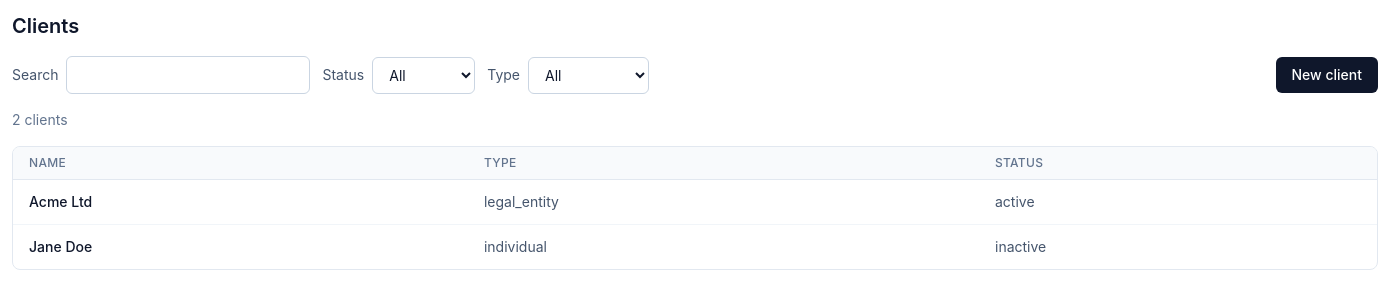
Test: ClientsIndexPage › refreshes the list with the backend search parameter
Expected: the link "Acme Ltd" is shown, [29,193,92,210]
In the search field named "search clients": (188, 75) [66,56,310,94], type "jane"
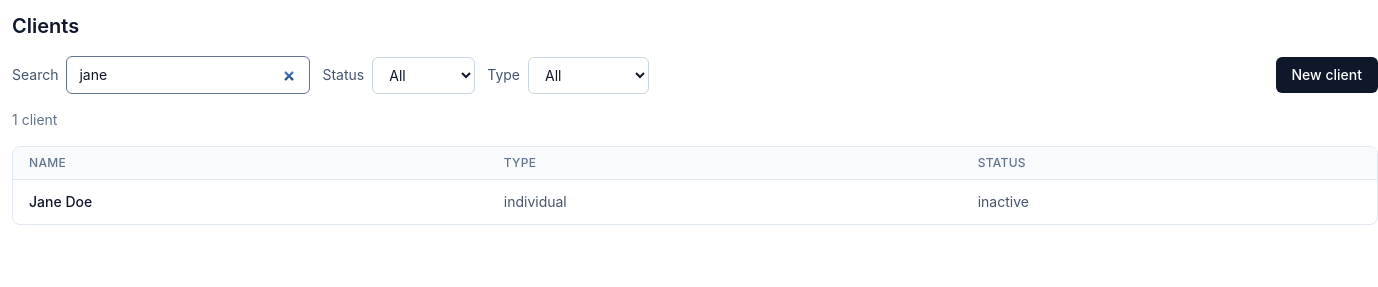
Expected: the link "Jane Doe" is shown, [29,193,92,210]
Expected: the link "Acme Ltd" is gone
